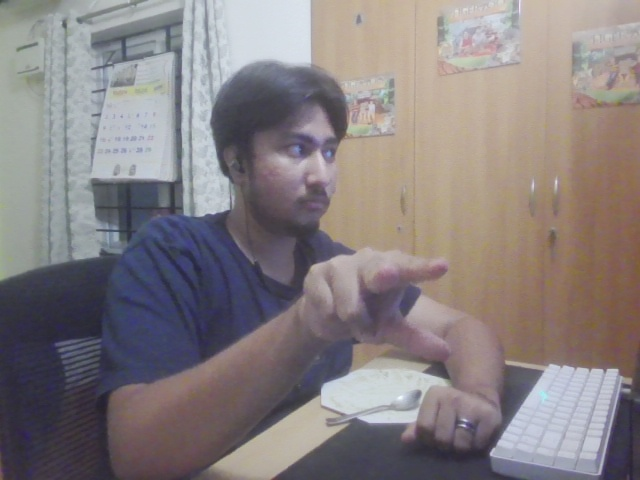no: (296, 244, 460, 372)
